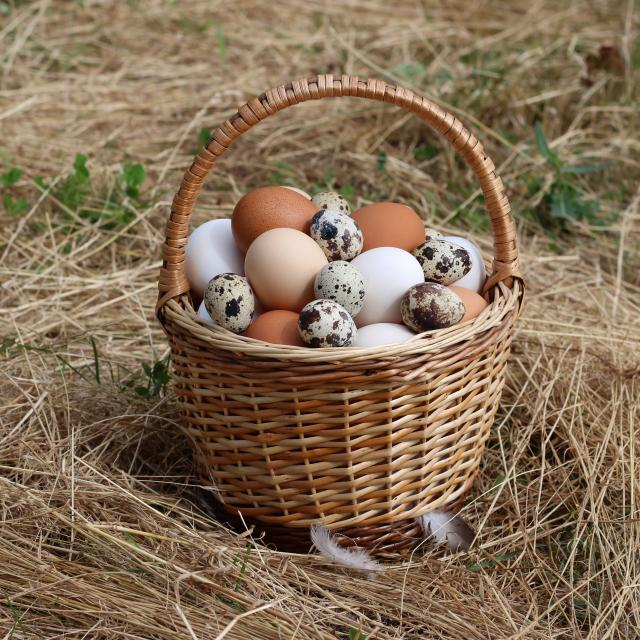huevos: (234, 216, 326, 312)
